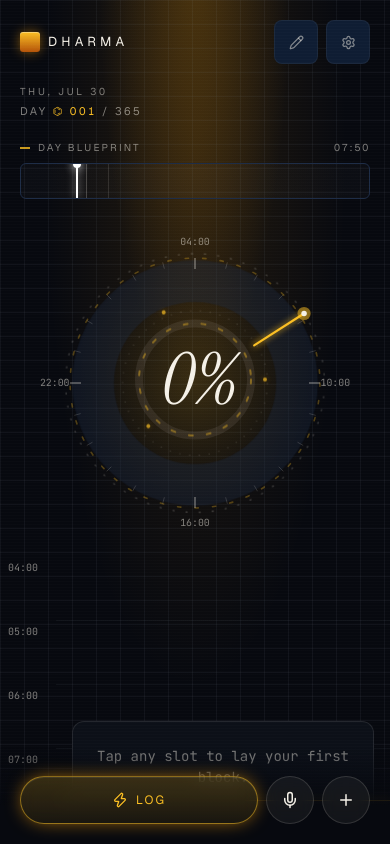
Scenario: C-m4d-014: empty state → dock + → chooser → Add Brick → save → tray renders › new brick via chooser from empty state appears in LooseBricksTray; empty-state unmounts
expect the text "Tap any slot to lay your first block." is shown: met, box 97,746 -> 349,788
// Dock + → chooser → Add Brick → fill form → Save
Step 1. Click the button named "Add" → {"x": 346, "y": 800}, box 322,776 -> 370,824
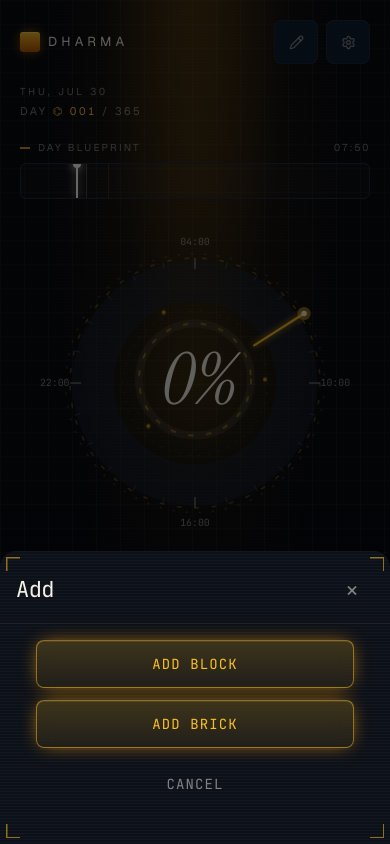
Step 2. Click the button "Add Brick" → {"x": 195, "y": 724}, box 36,700 -> 354,748
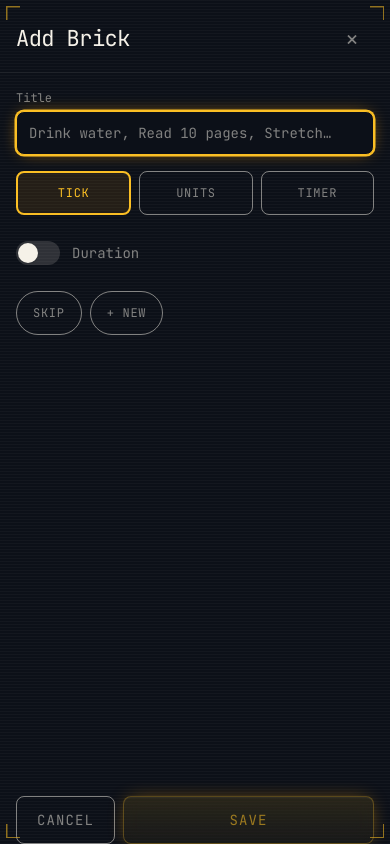
Step 3. Type "My Brick" into the field labelled "Title" → {"x": 195, "y": 133}, box 16,111 -> 374,155
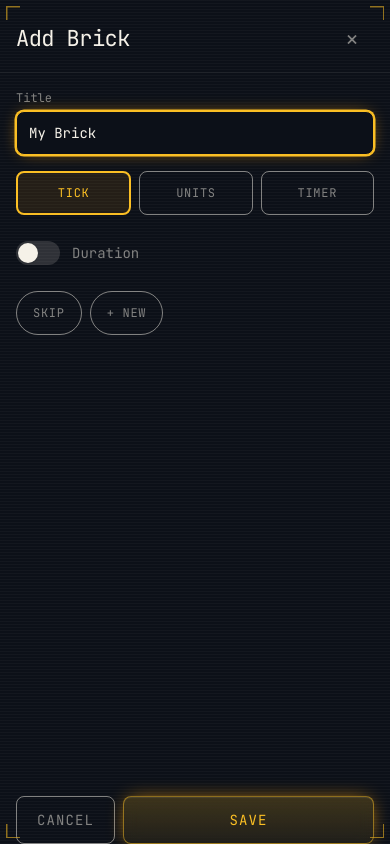
Step 4. Click the button "Save" → {"x": 249, "y": 820}, box 123,796 -> 374,843
(page scrolled)
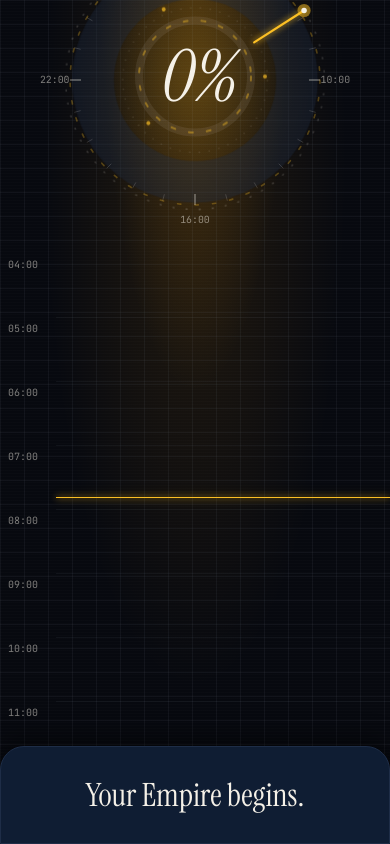
expect the text "Tap any slot to lay your first block." is gone: met
expect the element named "loose bricks" is shown: met, box 0,740 -> 389,843
